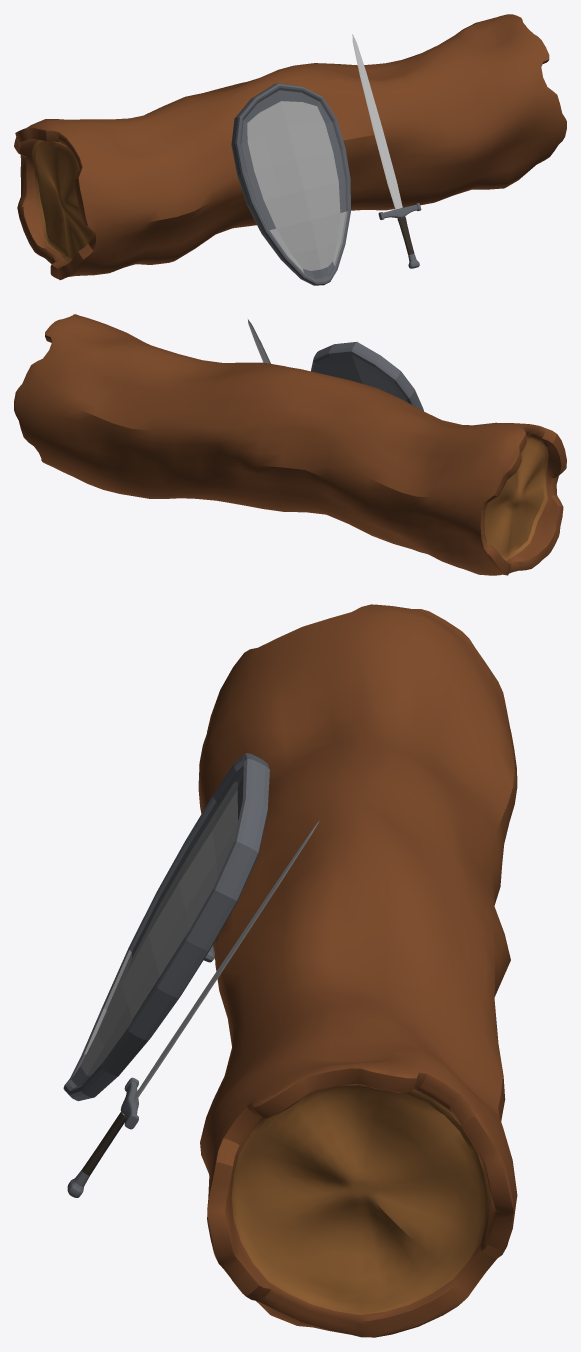
File: tronco3.fbx
3 views of the same model, one above another, from view 1: azimuth 30°, elevation 25°; view 2: azimuth 150°, elevation 25°; view 3: azimuth 270°, elevation 25° (orthographic). The views are drawn at different scales.
Visible parts, largest first — view 1: Cylinder.001; view 2: Cylinder.001; view 3: Cylinder.001.
Boxes of the visible parts, left/top/right/bottom form: Cylinder.001: left=14, top=14, right=566, bottom=285; Cylinder.001: left=14, top=314, right=566, bottom=575; Cylinder.001: left=63, top=604, right=517, bottom=1337.
Bounding box in the file's own units: 348 × 128 × 140.
